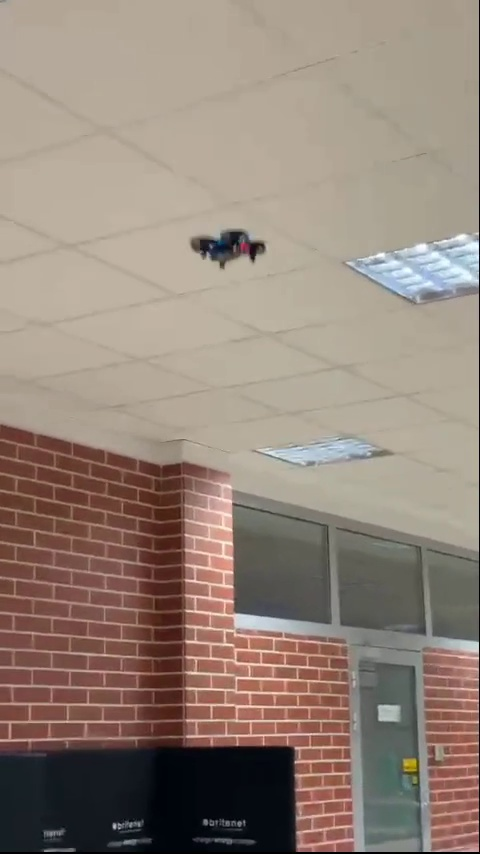drone: (190, 226, 266, 270)
